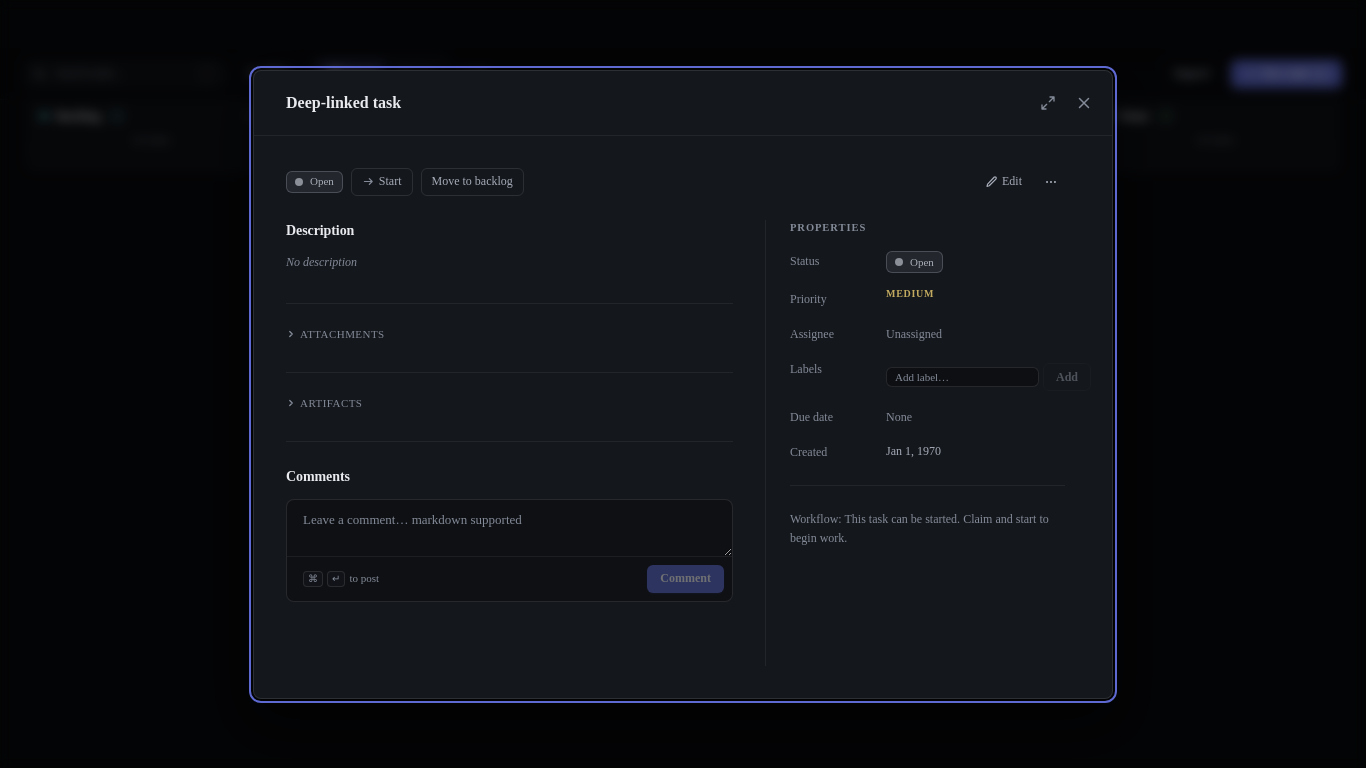
Test: board admin workflow edges › task modal admin override › does not show the status-override control to a HUMAN_MEMBER
Expected: the dialog is shown, [253,70,1113,698]
Click the button named "More actions".
click(1051, 182)  # box [1037,168,1065,196]
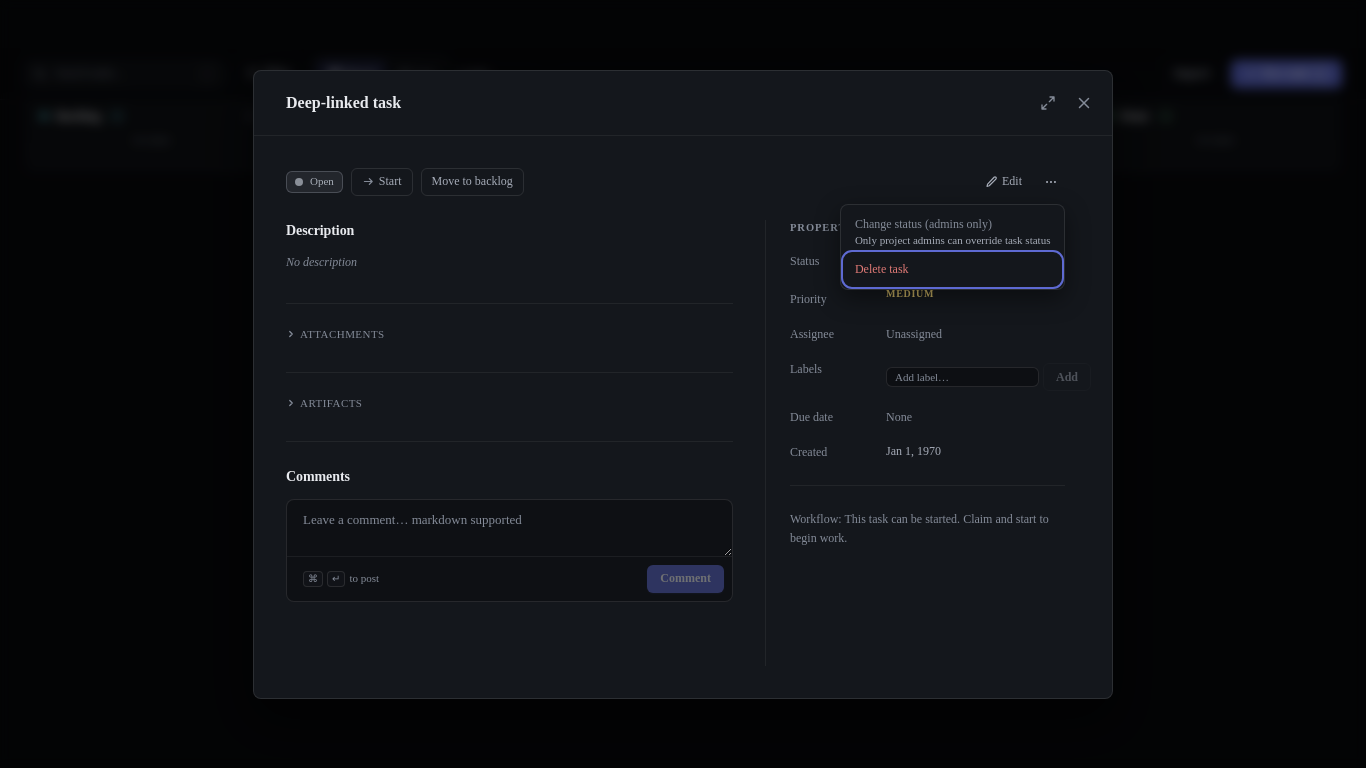
Expected: the button "Change status (admins only)" is disabled, [845,208,1060,254]
